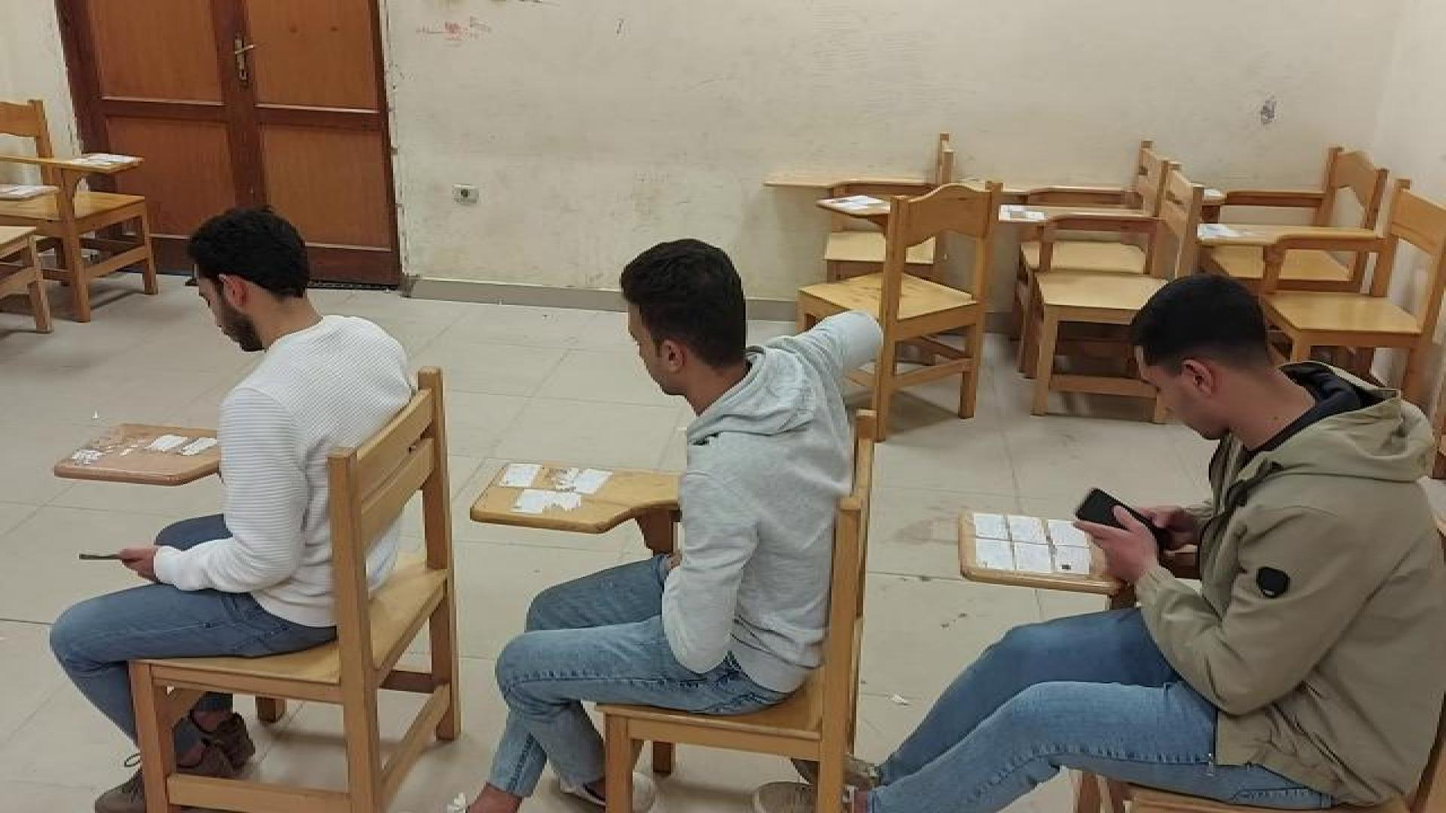phone: (1069, 485, 1179, 550), (73, 549, 141, 564)
